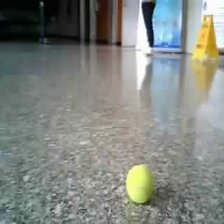tennis: (125, 164, 156, 204)
